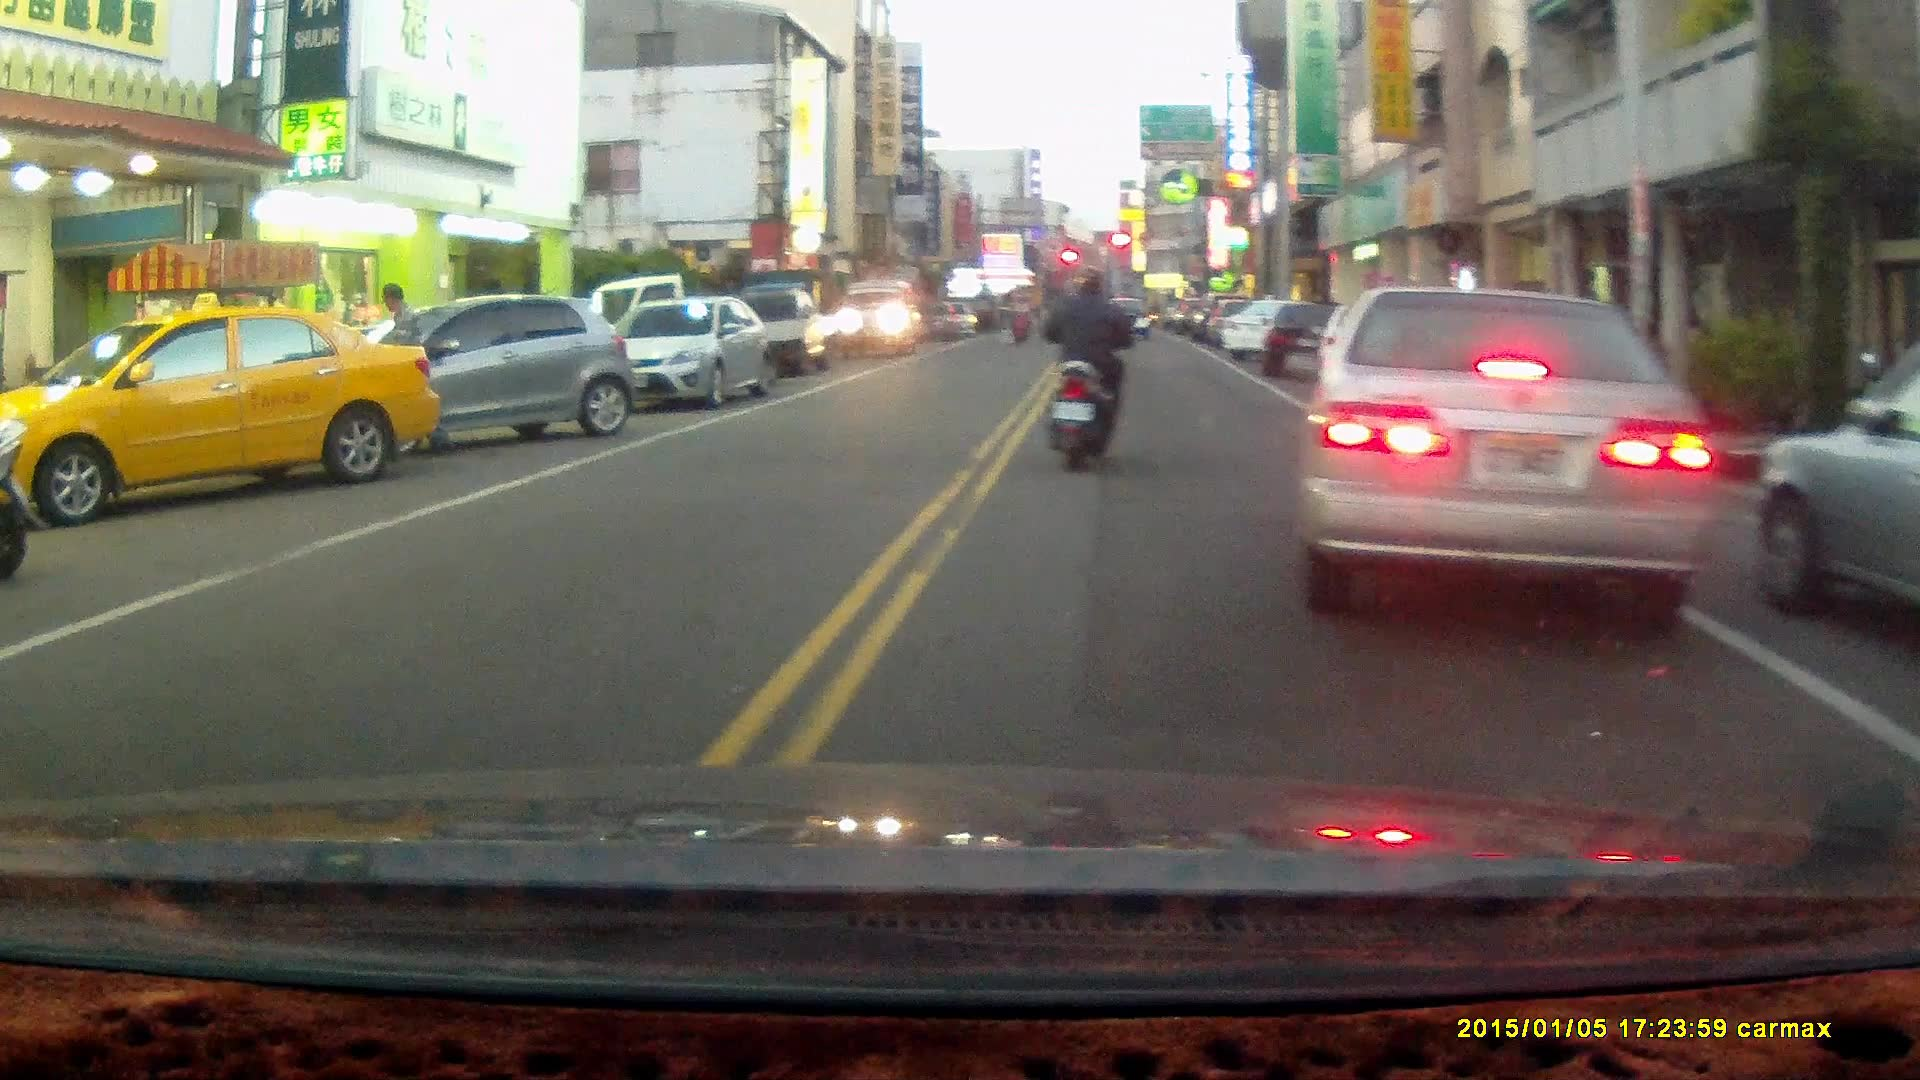pedestrian: (376, 279, 432, 461)
rider: (1038, 265, 1155, 471), (1007, 288, 1030, 347)
vehicle: (1294, 285, 1720, 629), (1, 300, 443, 527), (1738, 328, 1920, 654), (330, 289, 637, 441), (608, 293, 778, 409), (715, 286, 844, 381), (838, 279, 922, 354)
